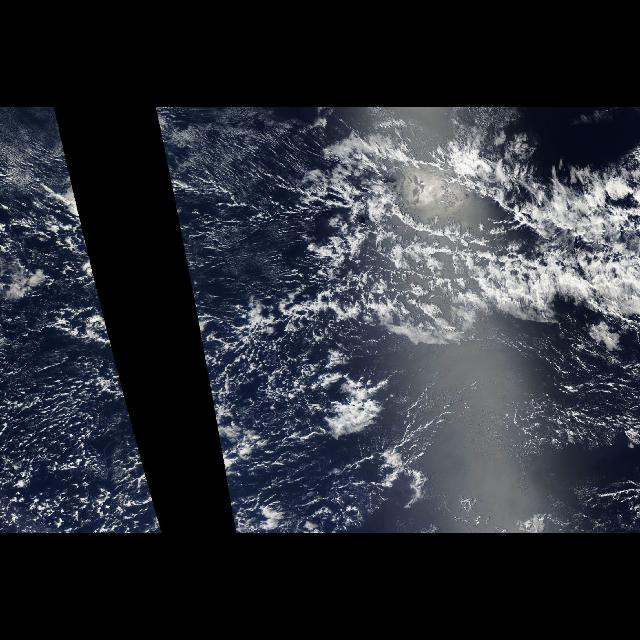Fish: (236, 118, 640, 360)
Gravel: (3, 313, 163, 533), (201, 345, 309, 533)
Sugar: (154, 108, 310, 272), (0, 108, 94, 272)
